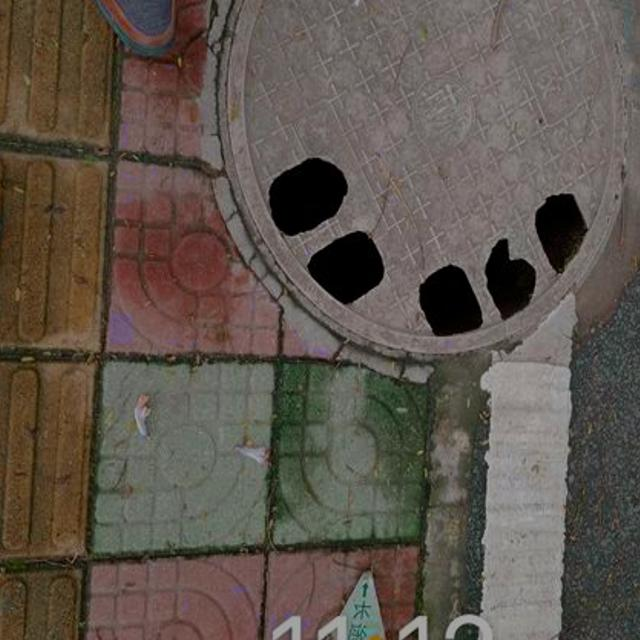broke: (200, 0, 640, 387)
